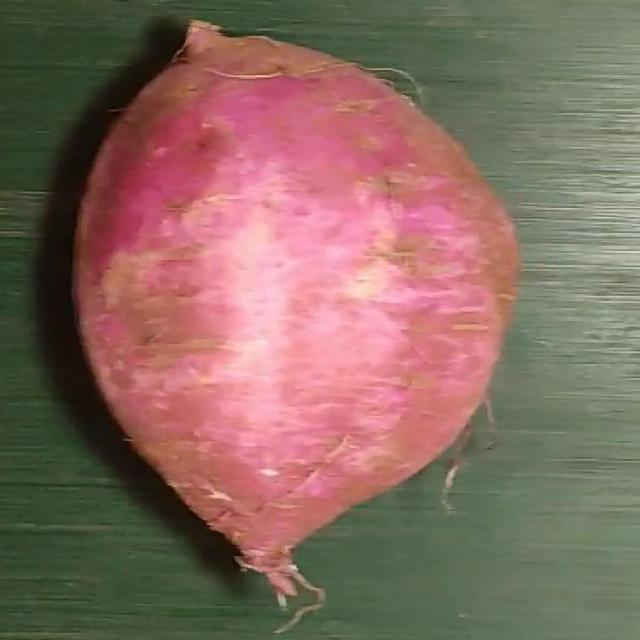Sweet Potato: (77, 22, 519, 600)
